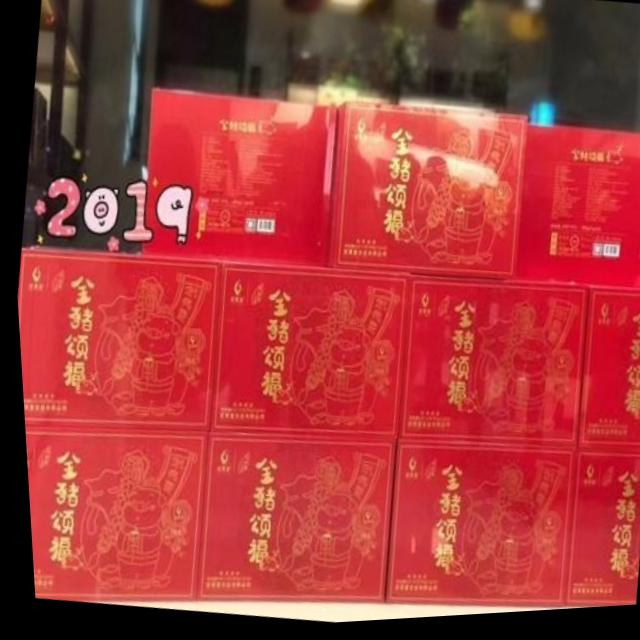box: (14, 250, 219, 432), (322, 108, 527, 285), (136, 87, 336, 268), (203, 265, 406, 443), (189, 433, 393, 604), (394, 278, 585, 453), (379, 440, 572, 611), (20, 428, 204, 602), (514, 131, 640, 297), (560, 454, 640, 613), (572, 293, 640, 454)
